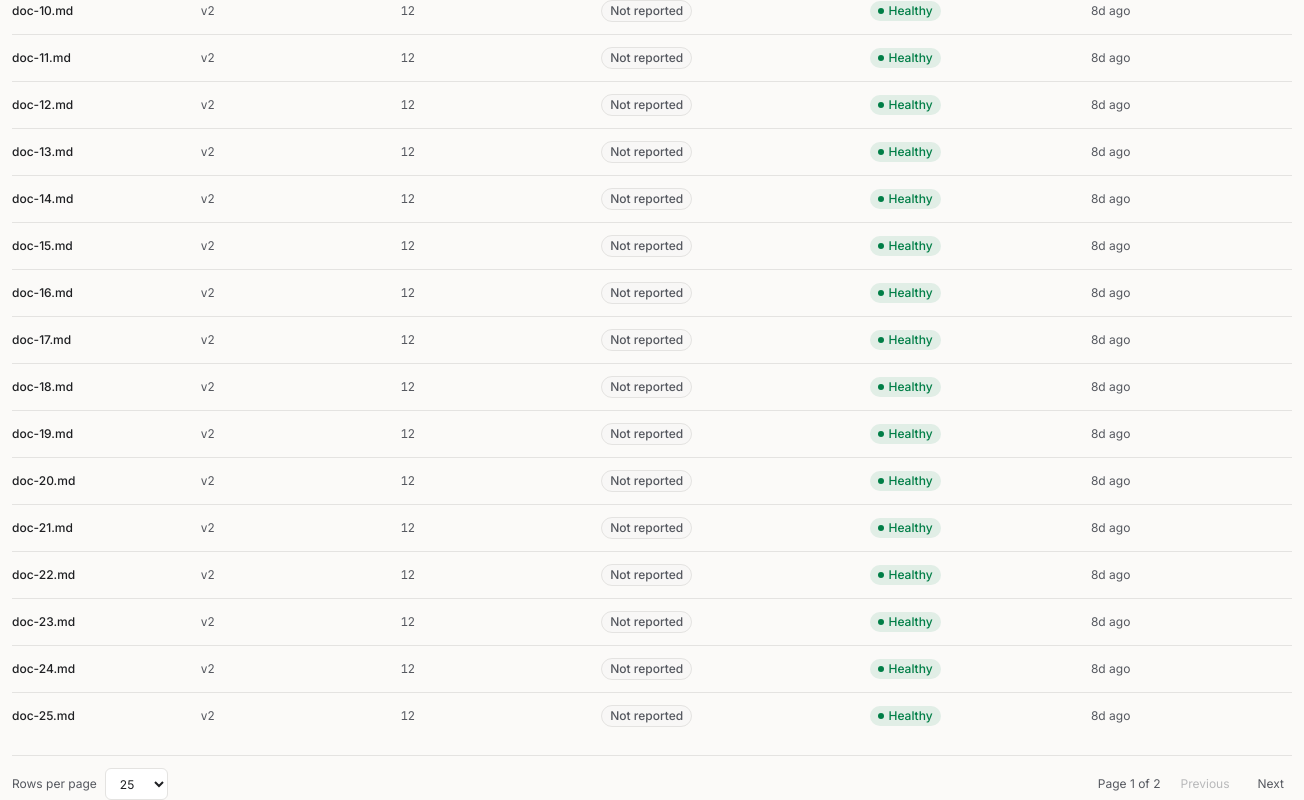
Test: Knowledge table controls › paginates loaded rows and resets to the first page after filtering
(page scrolled)
Click the button "Next".
click(1271, 784)  # box [1250,768,1292,799]
(page scrolled)
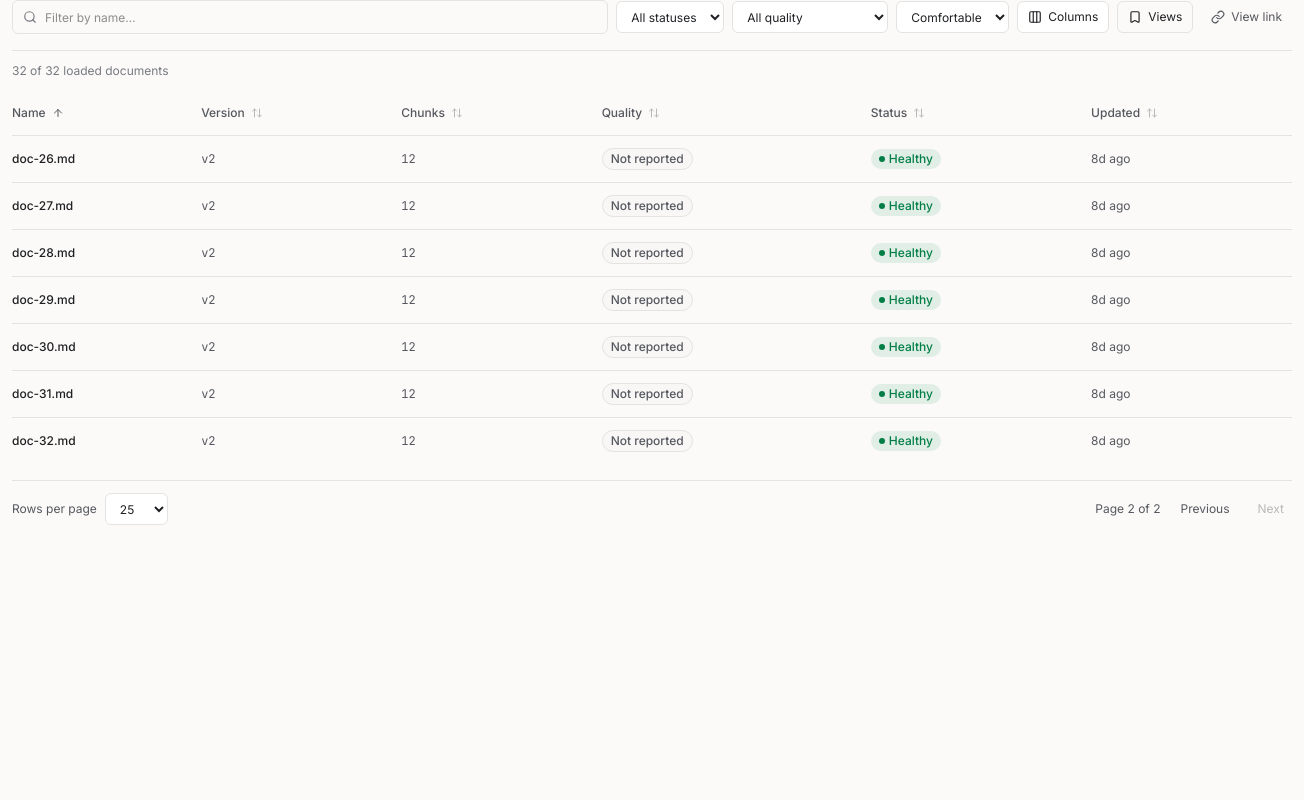
Type "doc-32" into the field named "Filter documents by name".
click(321, 17); type("doc-32")  # box [45,1,597,33]
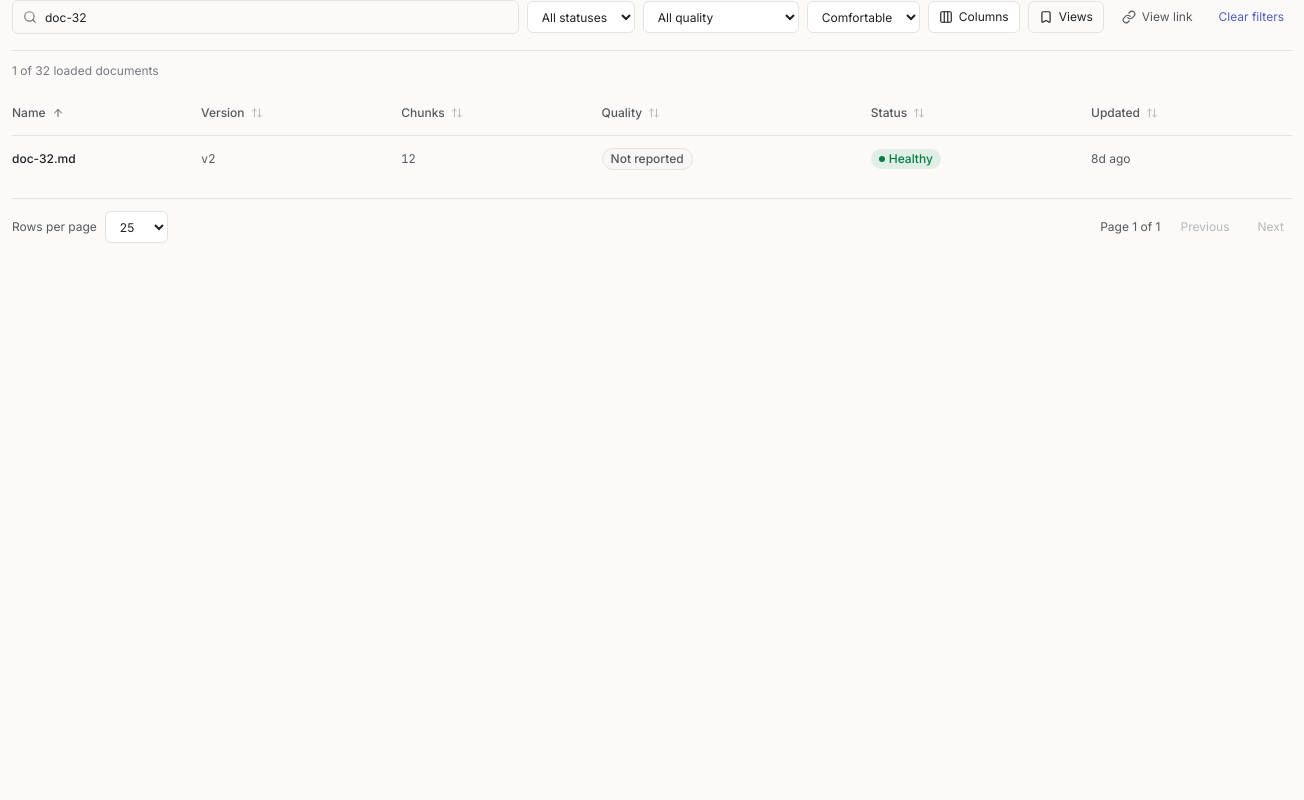
Now the text "Page 1 of 1" is shown, box [1100,219,1160,235]
